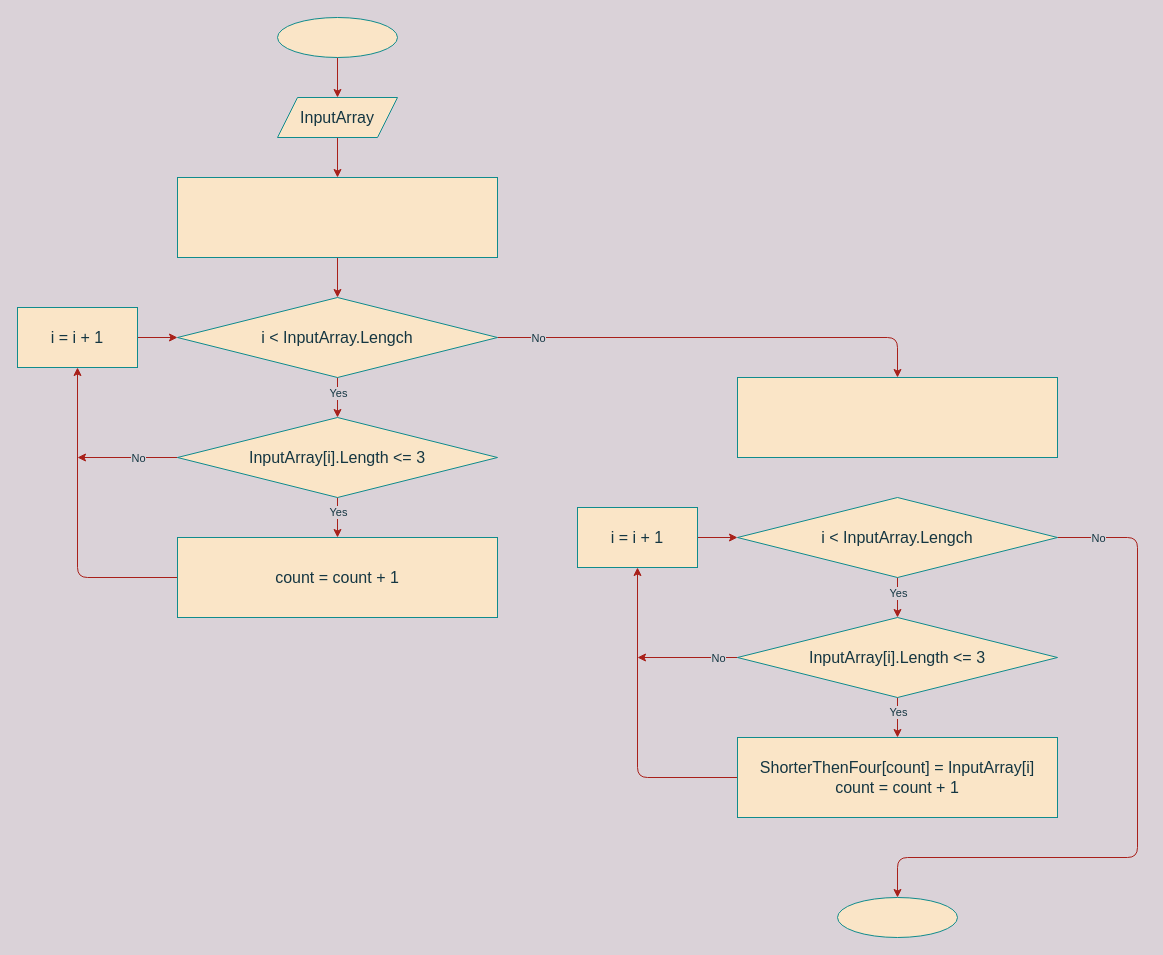
Some shapes in this 1163 by 955 pixel diagram are drawn without their labels. The box of each missing label's shape, as (x1, y1, x2, y2) in pixels:
End: (836, 896, 958, 938)
i = 0 New Array = ShorterThenFour[count] count = 0: (736, 376, 1058, 458)
int count = 0 int i = 0: (176, 176, 498, 258)
Start: (276, 16, 398, 58)
